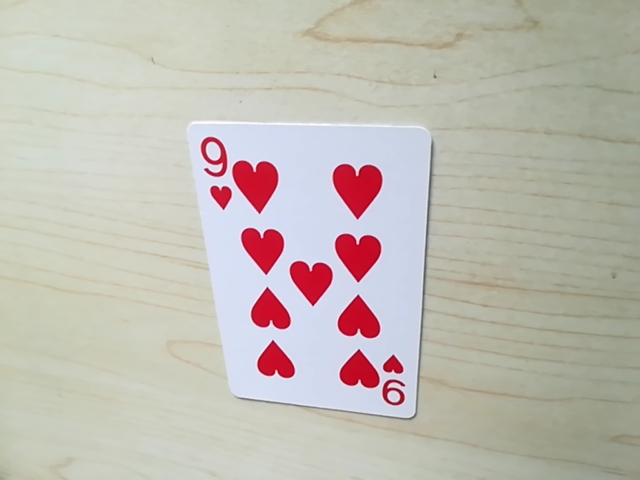hx 9: (369, 358, 413, 411), (198, 130, 235, 189)
